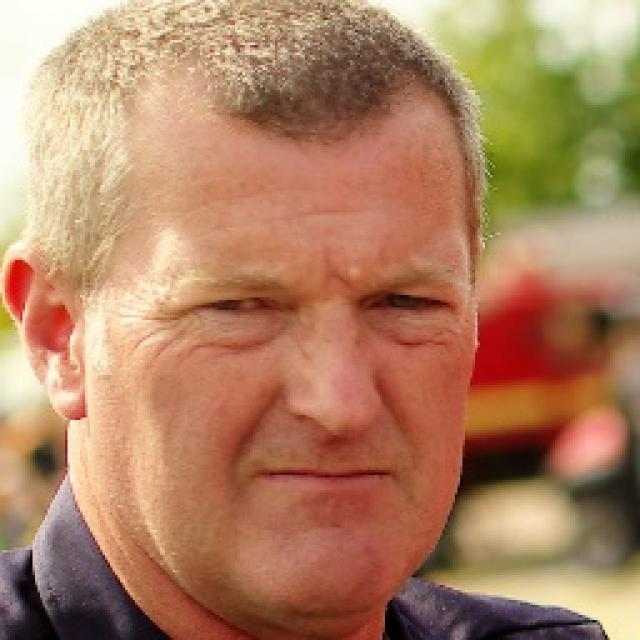earlobe: (0, 240, 88, 422)
